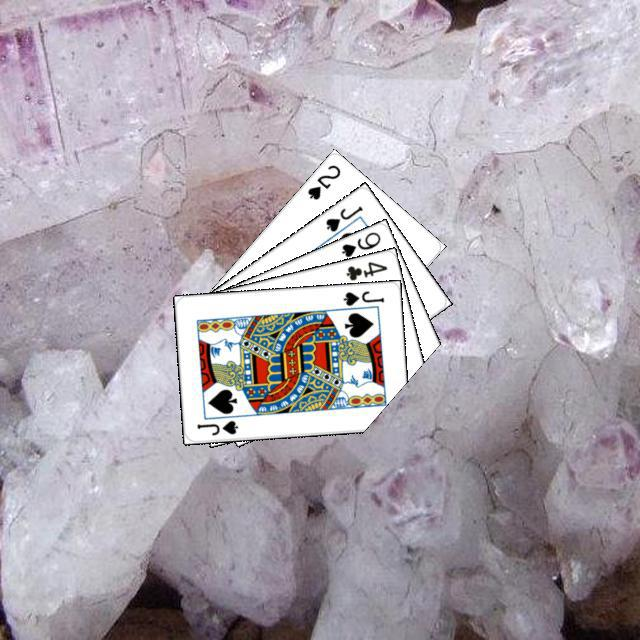2s: (302, 160, 342, 202)
4c: (341, 257, 389, 282)
9s: (337, 227, 382, 259)
Js: (321, 201, 364, 234), (192, 415, 240, 437), (339, 286, 386, 307)
